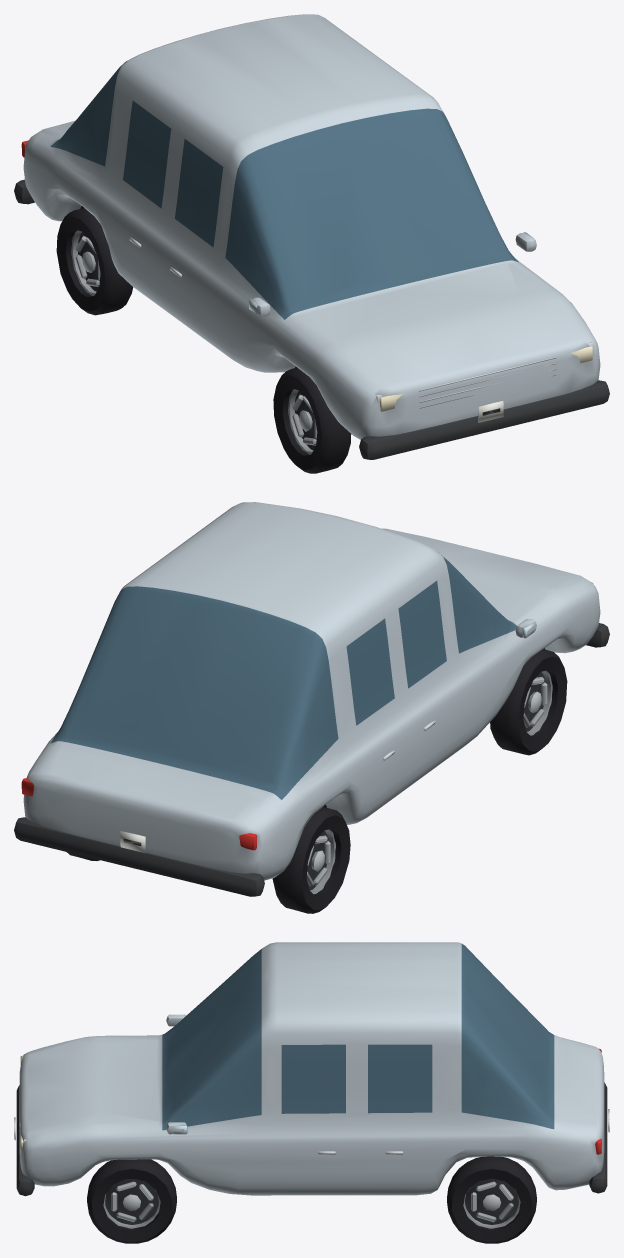
Rendered from veh-sedan.glb.
3 views of the same model, one above another, from view 1: azimuth 30°, elevation 25°; view 2: azimuth 150°, elevation 25°; view 3: azimuth 270°, elevation 25° (orthographic). The views are drawn at different scales.
Parts seen in each view (by area): view 1: body, wheel1, wheel3; view 2: body, wheel3, wheel1; view 3: body, wheel2, wheel0.
Part boxes in pixels (box(x1,y1,x2,y2)): body: box(14, 14, 609, 459); wheel1: box(273, 367, 351, 473); wheel3: box(56, 208, 133, 315); body: box(14, 502, 609, 896); wheel3: box(272, 807, 350, 913); wheel1: box(490, 649, 567, 755); body: box(14, 942, 609, 1196); wheel2: box(447, 1156, 536, 1243); wheel0: box(87, 1159, 176, 1243).
Size of the model in its own units: 1.78 by 1.65 by 3.97.
